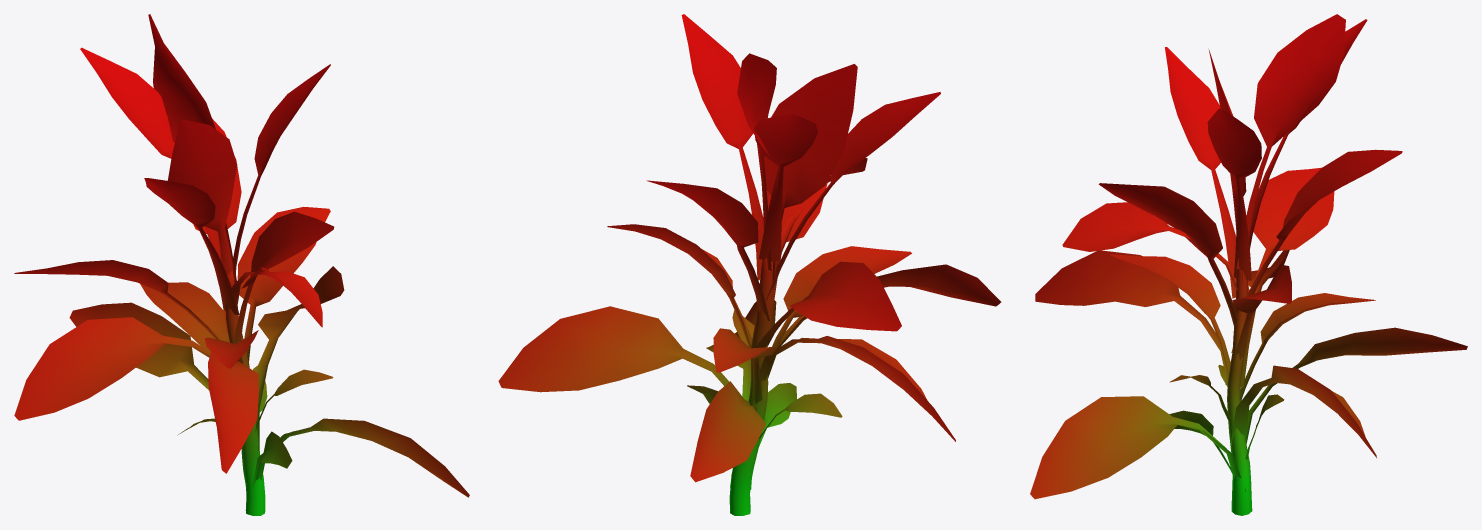
File: Spotted Dumbcane_LOD1_Var1_sjBmG.fbx
3 renders of one model, left to right at view 1: azimuth 30°, elevation 25°; view 2: azimuth 150°, elevation 25°; view 3: azimuth 270°, elevation 25°, orthographic. The views are drawn at different scales.
Visible parts, largest first — view 1: _bfc6_Var1_LOD1; view 2: _bfc6_Var1_LOD1; view 3: _bfc6_Var1_LOD1.
Part boxes in pixels (<box>): _bfc6_Var1_LOD1: <box>14,14,469,515</box>; _bfc6_Var1_LOD1: <box>498,14,1001,515</box>; _bfc6_Var1_LOD1: <box>1030,14,1467,515</box>.
Size of the model in its own units: 51.05 by 61.51 by 51.92.
